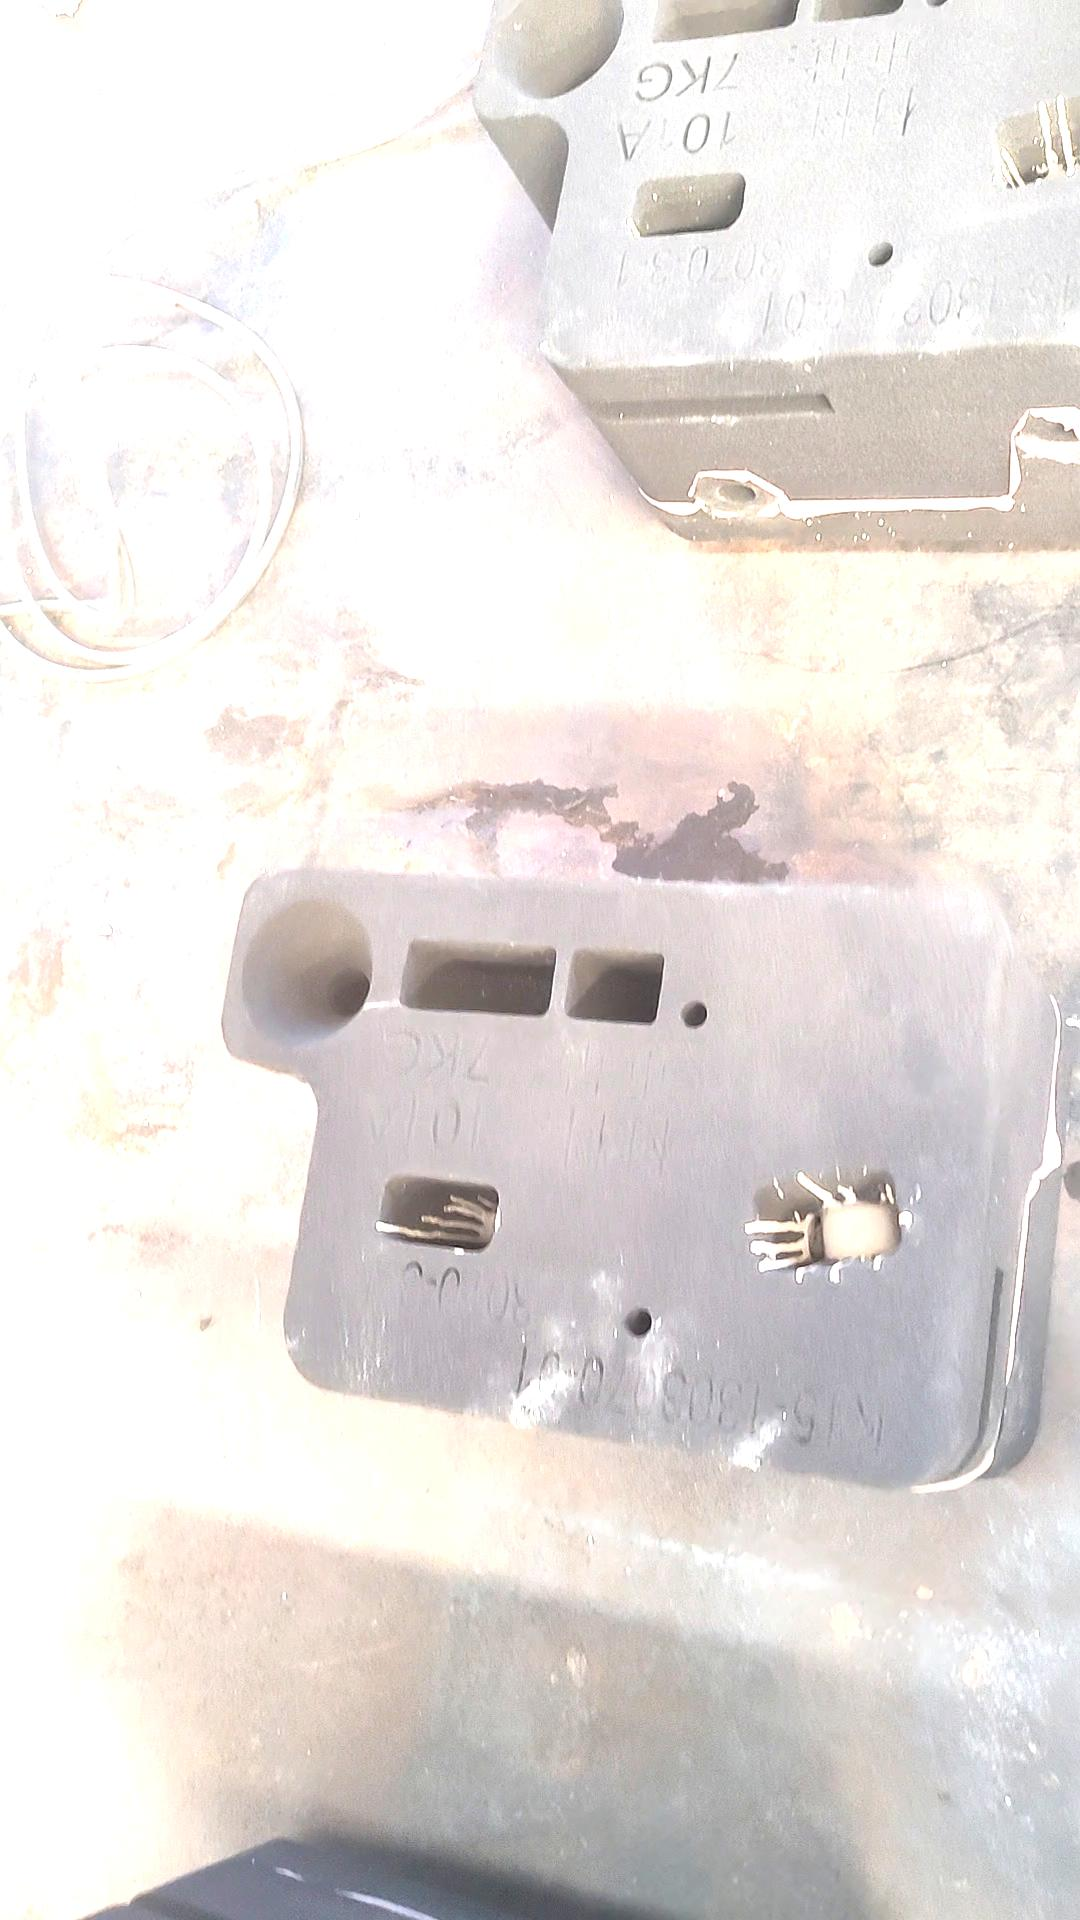pouring hole: (239, 897, 371, 1044), (483, 1, 624, 100)
